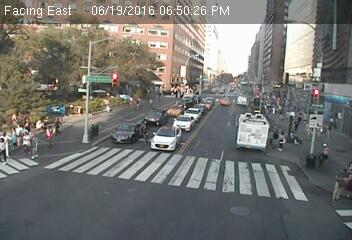neg: (170, 84, 181, 98), (230, 79, 240, 93), (273, 97, 283, 110), (340, 112, 348, 123), (205, 82, 211, 90), (294, 93, 300, 100)
pos: (327, 166, 351, 204), (316, 142, 336, 168), (4, 126, 22, 149), (275, 130, 290, 151), (17, 131, 32, 151), (340, 172, 351, 199), (41, 127, 55, 146), (50, 118, 61, 132), (291, 118, 301, 132), (346, 160, 351, 174), (1, 161, 6, 168)
